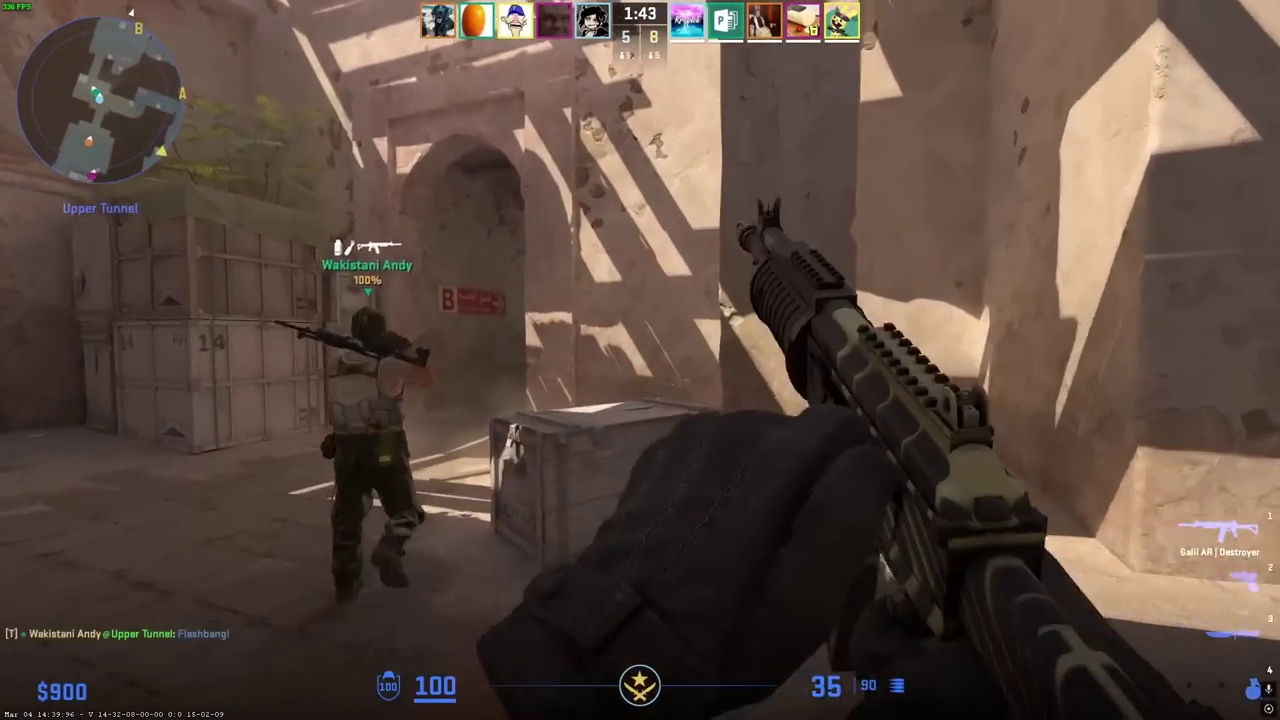Terrorist: (321, 307, 430, 607)
